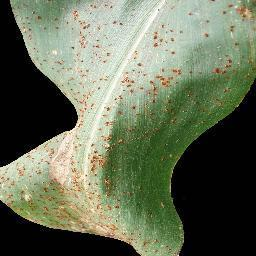Corn_Common_Rust: (82, 0, 184, 255), (11, 0, 83, 107), (0, 154, 83, 233), (23, 108, 82, 154), (209, 52, 239, 83), (216, 0, 256, 21), (192, 86, 231, 105), (227, 23, 241, 46), (188, 66, 200, 76), (202, 32, 214, 38), (204, 16, 212, 24), (189, 10, 198, 17)
